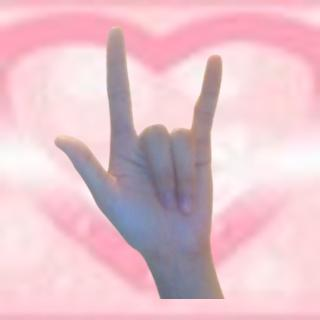ILY: (46, 19, 232, 268)
